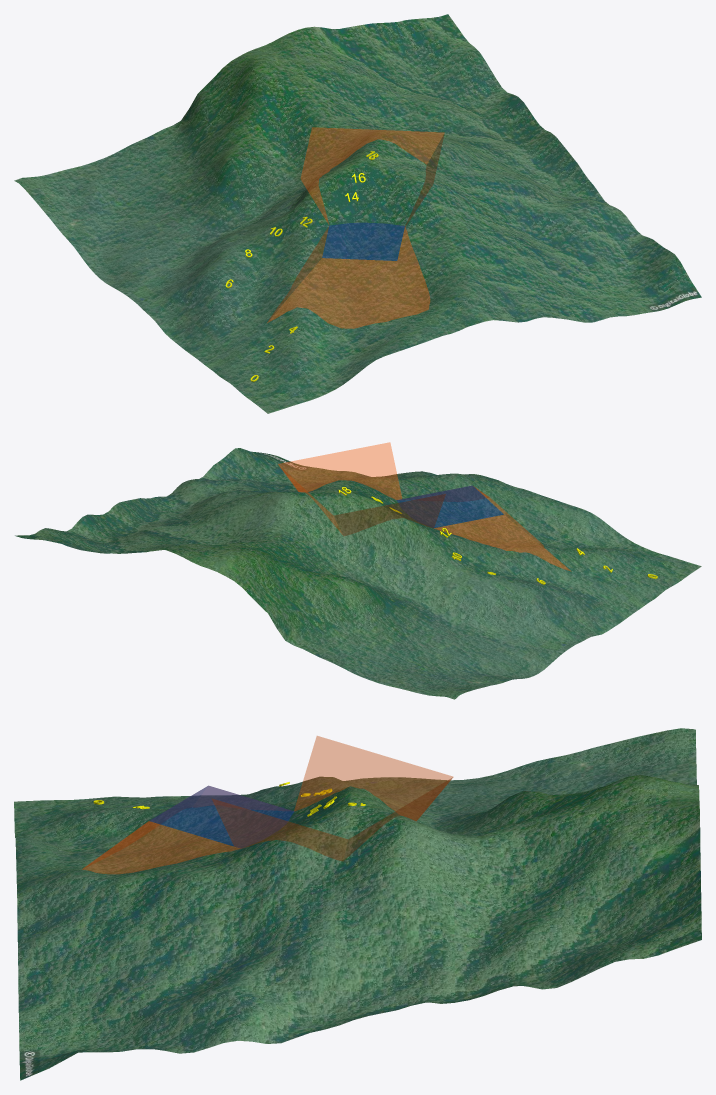
File: curva13b.gltf
The picture shows the model from 3 angles, top to bottom: view 1: azimuth 30°, elevation 25°; view 2: azimuth 150°, elevation 25°; view 3: azimuth 270°, elevation 25°; orthographic projection. The views are drawn at different scales.
Parts seen in each view (by area): view 1: root; view 2: root; view 3: root.
Part boxes in pixels (left/top/right/bottom): root: left=14, top=14, right=701, bottom=413; root: left=15, top=442, right=701, bottom=699; root: left=14, top=728, right=701, bottom=1080.
Bounding box in the file's own units: 2019 × 576 × 2004.
5 materials, 1 textured.
